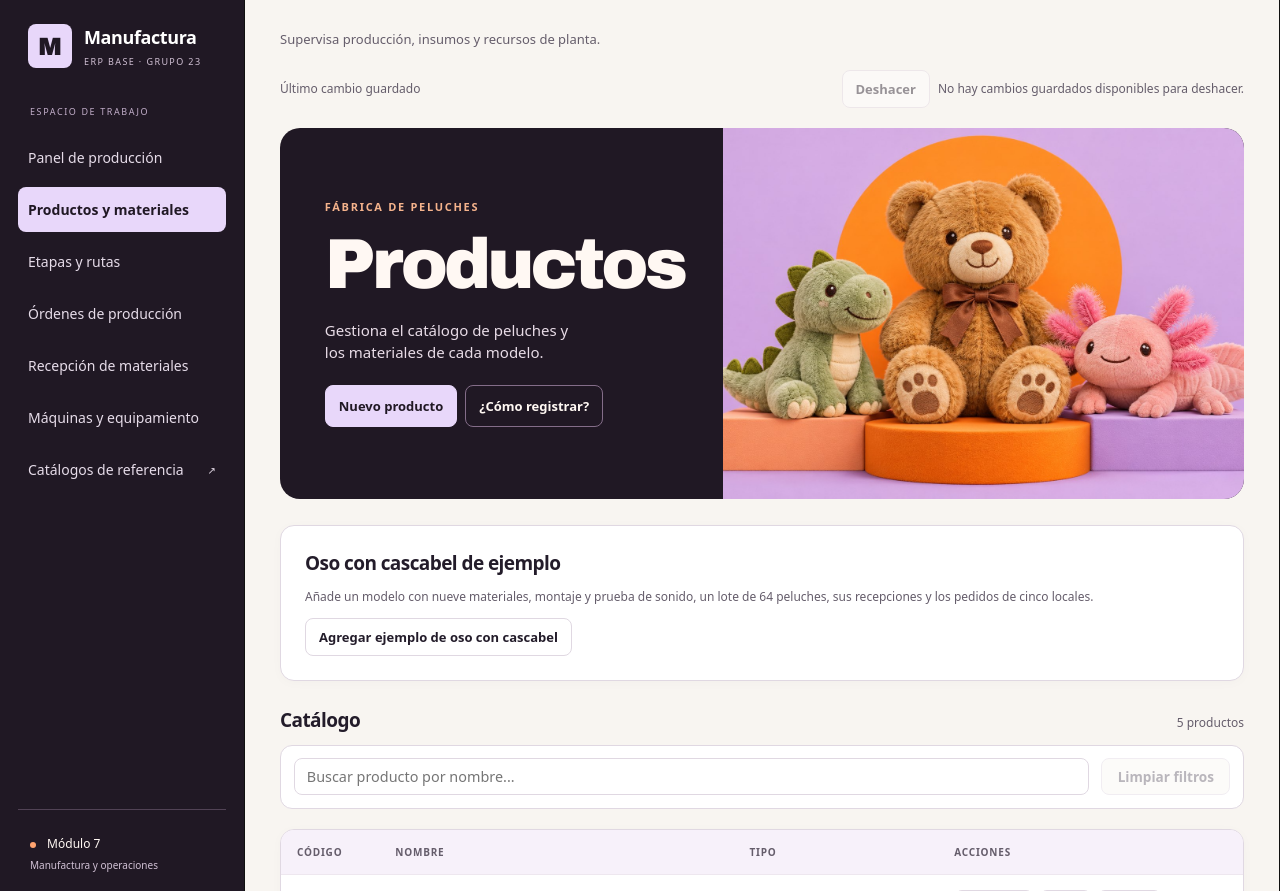
Scenario: explica las dependencias de maquinas antes de ofrecer confirmar
The width and height of the screenshot is (1280, 891).
(page scrolled)
What coordinates should you click on to do the following:
click the button "Máquinas y equipamiento"
I would click on:
 (122, 418)
Its box is [18,395,226,440].
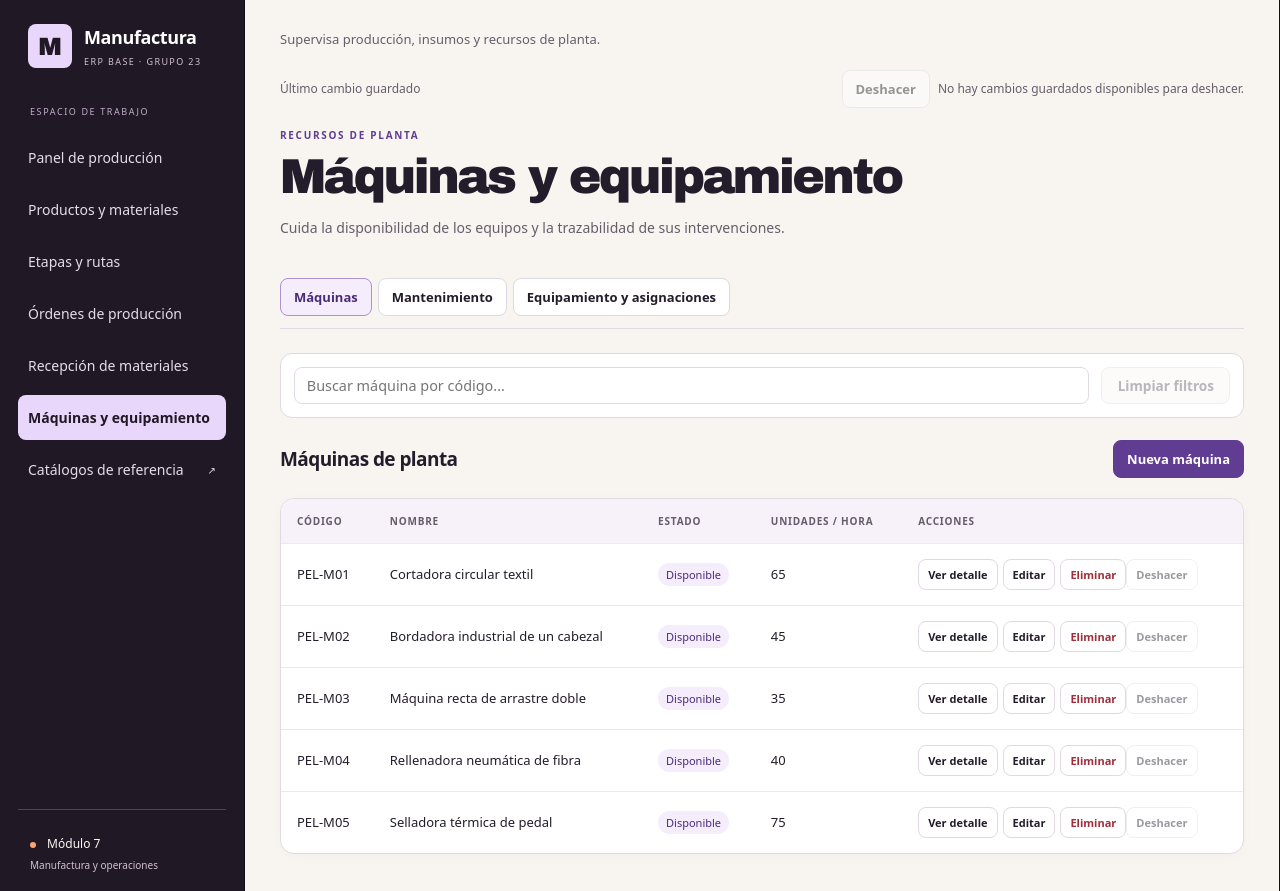
What coordinates should you click on to do the following:
click the button "Eliminar" in the row of "PEL-M01"
I would click on:
 (1093, 574)
Its box is [1060,558,1126,590].
(page scrolled)
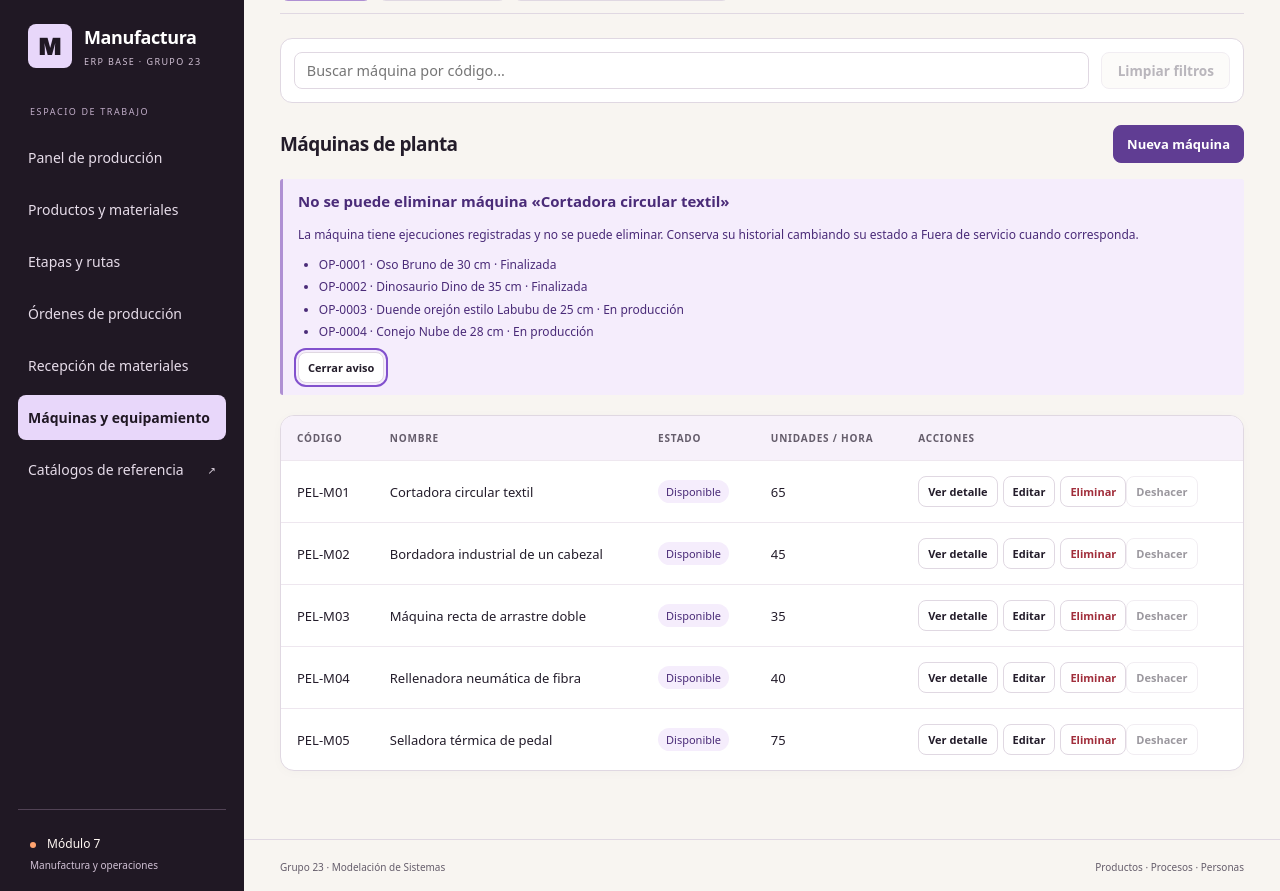
Now the dialog shows "ejecuciones registradas", box [298,226,1139,242]
